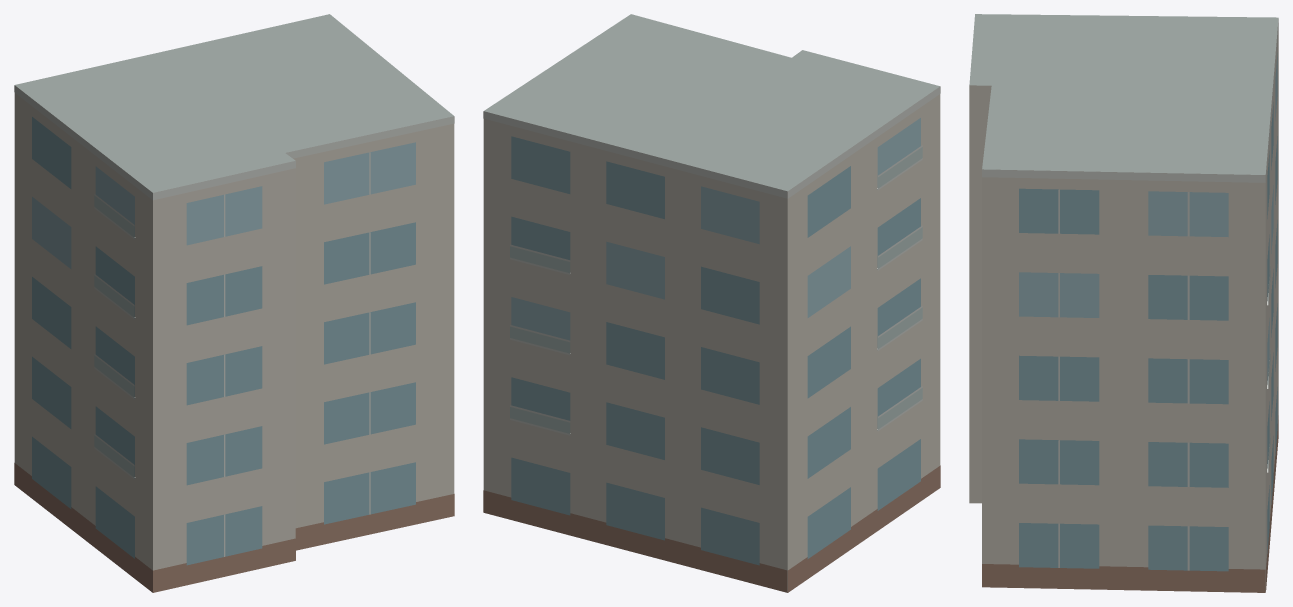
File: survey-upis-32861894.glb
3 views of the same model, side by side, from view 1: azimuth 30°, elevation 25°; view 2: azimuth 150°, elevation 25°; view 3: azimuth 270°, elevation 25° (orthographic). The views are drawn at different scales.
Parts seen in each view (by area): view 1: survey-upis-32861894.tmp; view 2: survey-upis-32861894.tmp; view 3: survey-upis-32861894.tmp.
Boxes of the visible parts, x1,y1,x2,y2 form: survey-upis-32861894.tmp: (14,14,454,592); survey-upis-32861894.tmp: (483,14,940,592); survey-upis-32861894.tmp: (969,14,1278,592).
Bounding box in the file's own units: 10.89 × 13.15 × 8.83.
